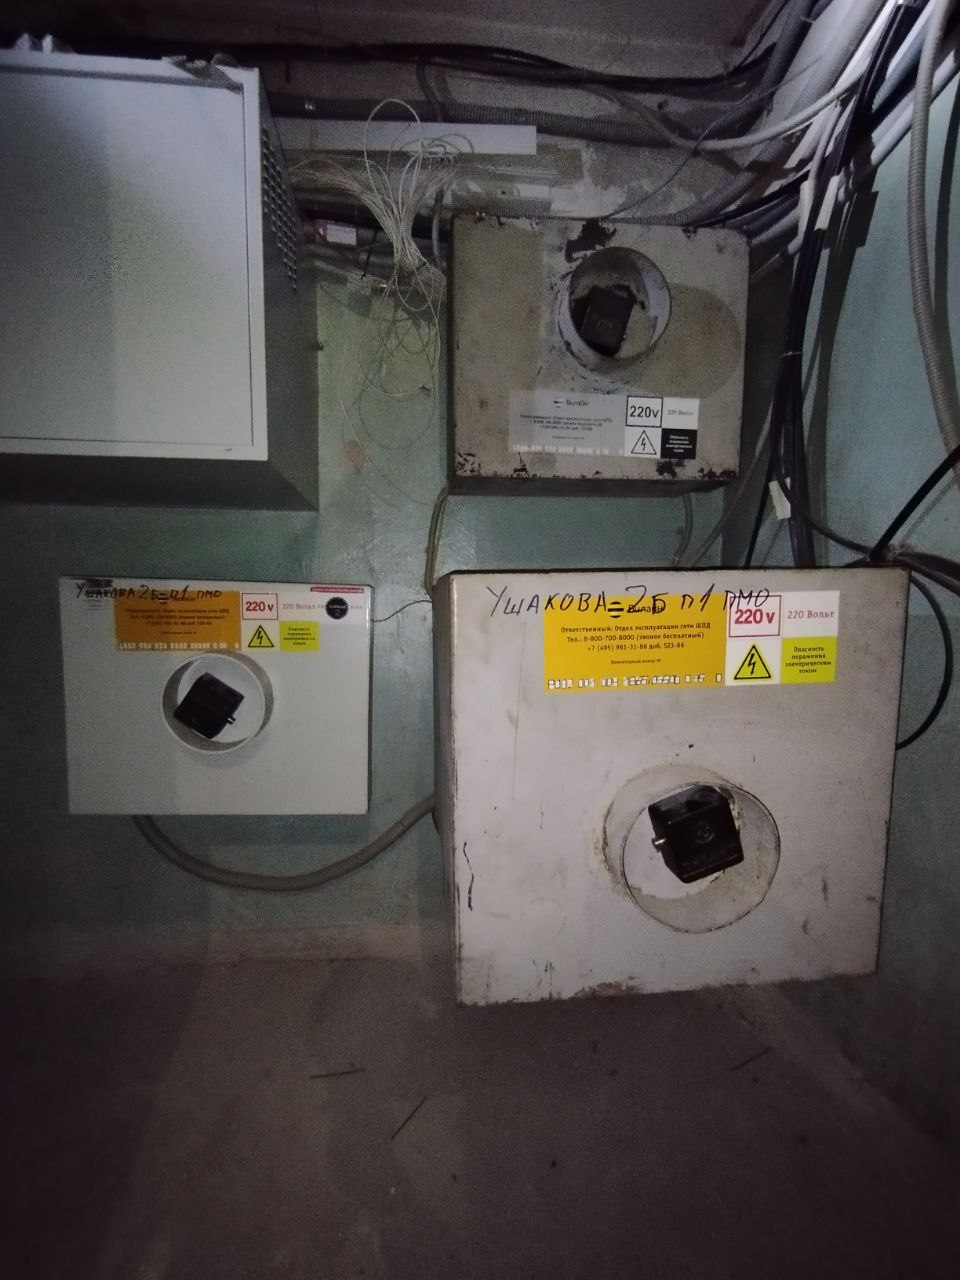shta-3: (444, 209, 754, 488), (53, 574, 373, 815)
shta-9: (430, 563, 917, 1009)
